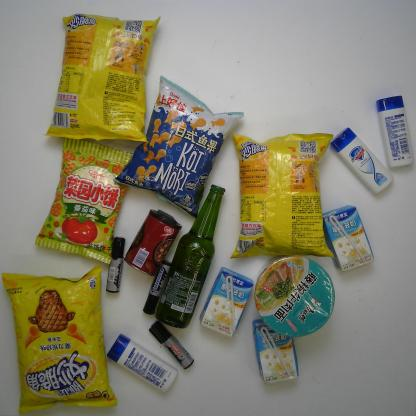Alcohol: (154, 180, 229, 328)
Canned Food: (123, 205, 185, 280)
Instant Noodles: (252, 249, 338, 340)
Milk: (318, 199, 377, 274), (199, 266, 255, 337), (249, 313, 301, 384)
Personal Hygiene: (326, 124, 397, 198), (107, 330, 180, 393), (373, 89, 415, 171)
Puffed Food: (113, 77, 250, 221), (0, 266, 118, 411), (44, 14, 160, 146), (227, 127, 337, 265), (35, 132, 135, 263)
Stationery: (146, 322, 200, 370), (139, 256, 176, 317), (95, 229, 130, 293)
